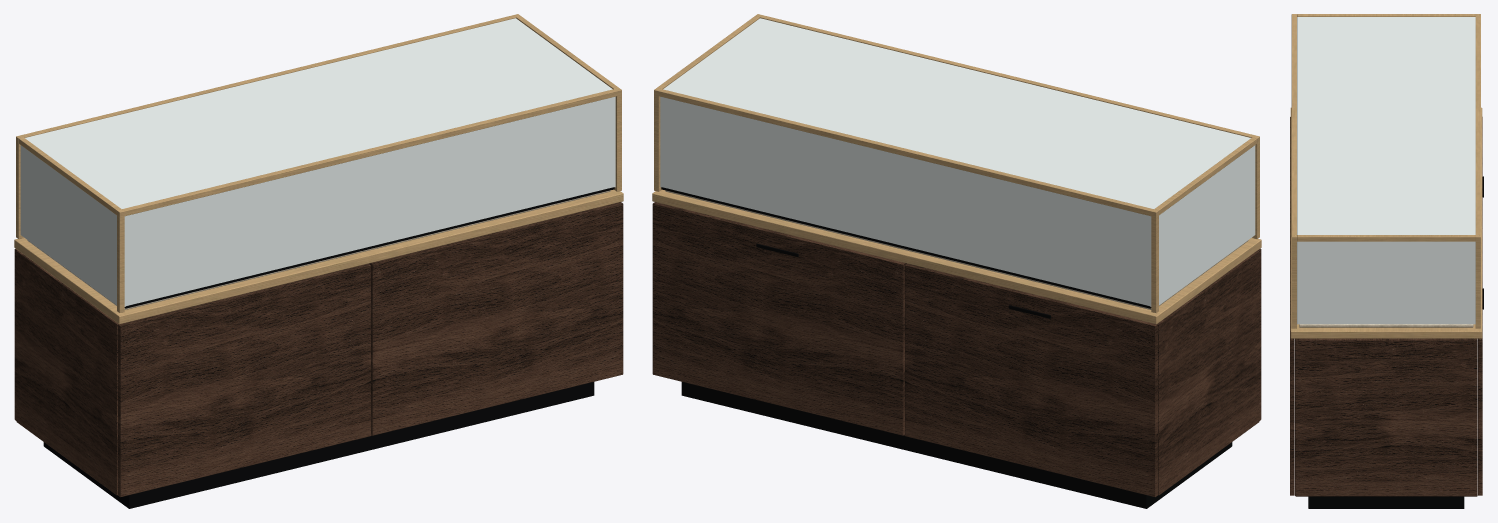
Rendered from DisplayCase_Hero.obj.
The picture shows the model from 3 angles, left to right: view 1: azimuth 30°, elevation 25°; view 2: azimuth 150°, elevation 25°; view 3: azimuth 270°, elevation 25°; orthographic projection. The views are drawn at different scales.
Parts seen in each view (by area): view 1: DisplayCase_Hero_Opaque, Glass_Top.001, Glass_Front.001, Glass_Left.001; view 2: DisplayCase_Hero_Opaque, Glass_Top.001, Glass_Back.001, Glass_Left.001; view 3: DisplayCase_Hero_Opaque, Glass_Top.001, Glass_Right.001.
Part boxes in pixels (bbox=[...]): DisplayCase_Hero_Opaque: bbox=[14, 14, 623, 508]; Glass_Top.001: bbox=[25, 18, 612, 208]; Glass_Front.001: bbox=[124, 96, 615, 306]; Glass_Left.001: bbox=[20, 145, 116, 305]; DisplayCase_Hero_Opaque: bbox=[652, 14, 1261, 508]; Glass_Top.001: bbox=[663, 18, 1250, 208]; Glass_Back.001: bbox=[660, 96, 1151, 306]; Glass_Left.001: bbox=[1159, 145, 1255, 305]; DisplayCase_Hero_Opaque: bbox=[1290, 14, 1483, 508]; Glass_Top.001: bbox=[1297, 17, 1475, 234]; Glass_Right.001: bbox=[1297, 241, 1475, 324].
Bounding box in the file's own units: 1.8 × 1.05 × 0.658.
Materials: 5 (3 with a texture image).
